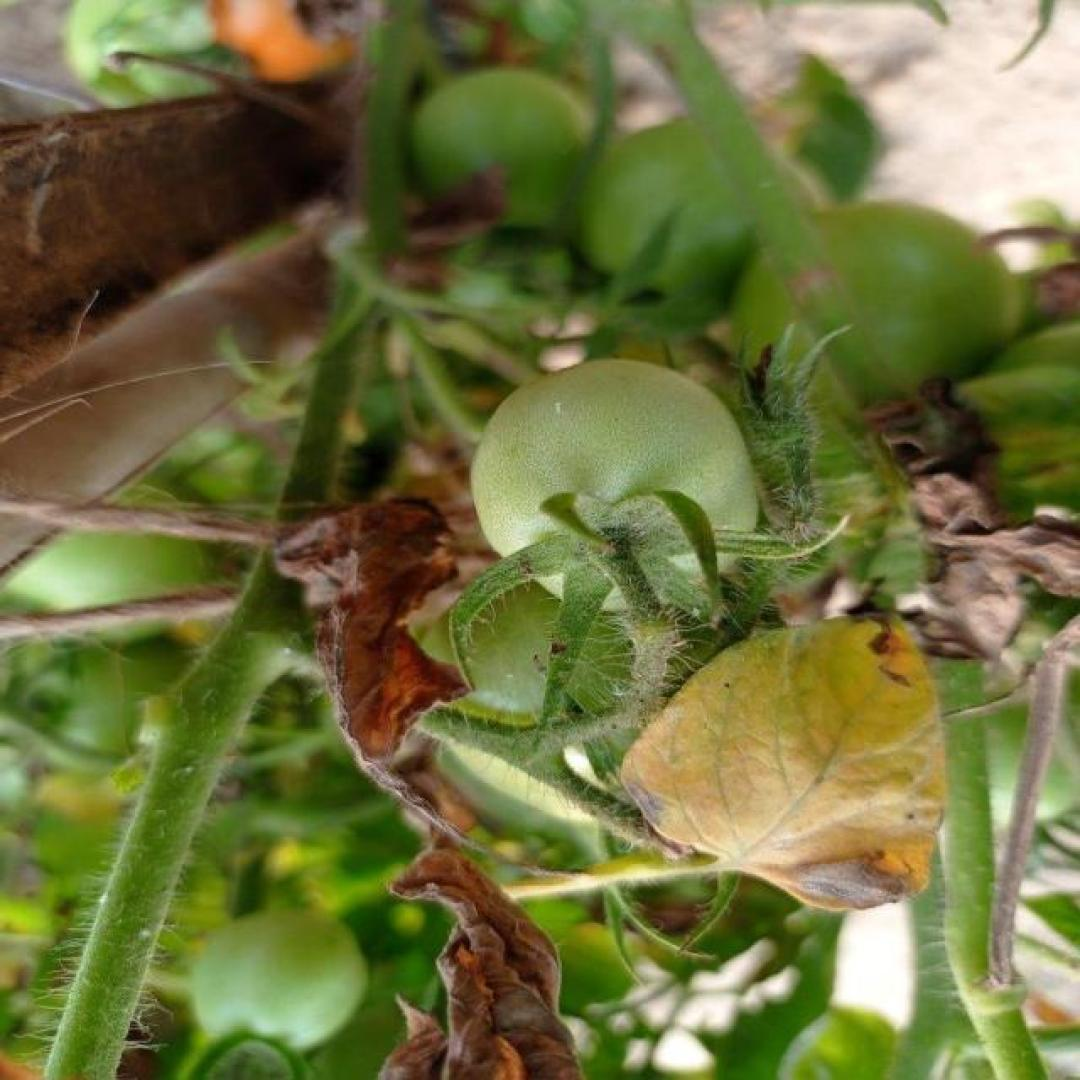mentah: (471, 361, 761, 616)
